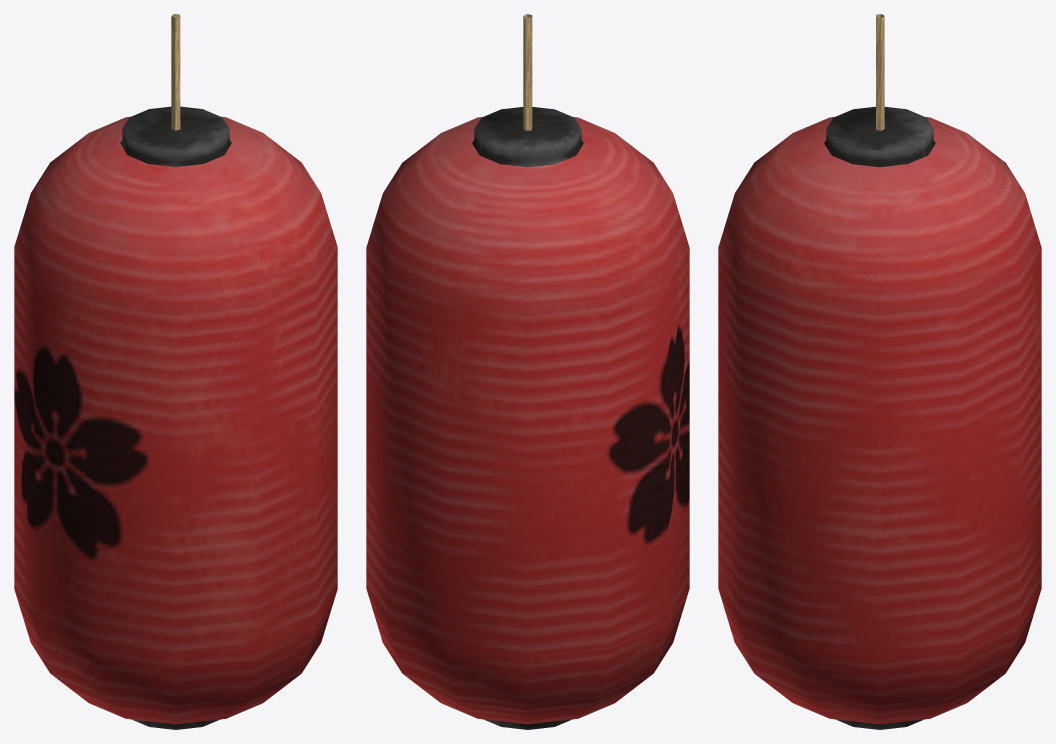
The model's file is lantern.glb.
3 renders of one model, left to right at view 1: azimuth 30°, elevation 25°; view 2: azimuth 150°, elevation 25°; view 3: azimuth 270°, elevation 25°, orthographic.
Visible parts, largest first — view 1: Cylinder.002; view 2: Cylinder.002; view 3: Cylinder.002.
Boxes of the visible parts, x1,y1,x2,y2 form: Cylinder.002: [14, 14, 337, 729]; Cylinder.002: [366, 14, 689, 729]; Cylinder.002: [718, 14, 1041, 729].
Size of the model in its own units: 0.3557 by 0.8398 by 0.3557.
1 material, 1 textured.
